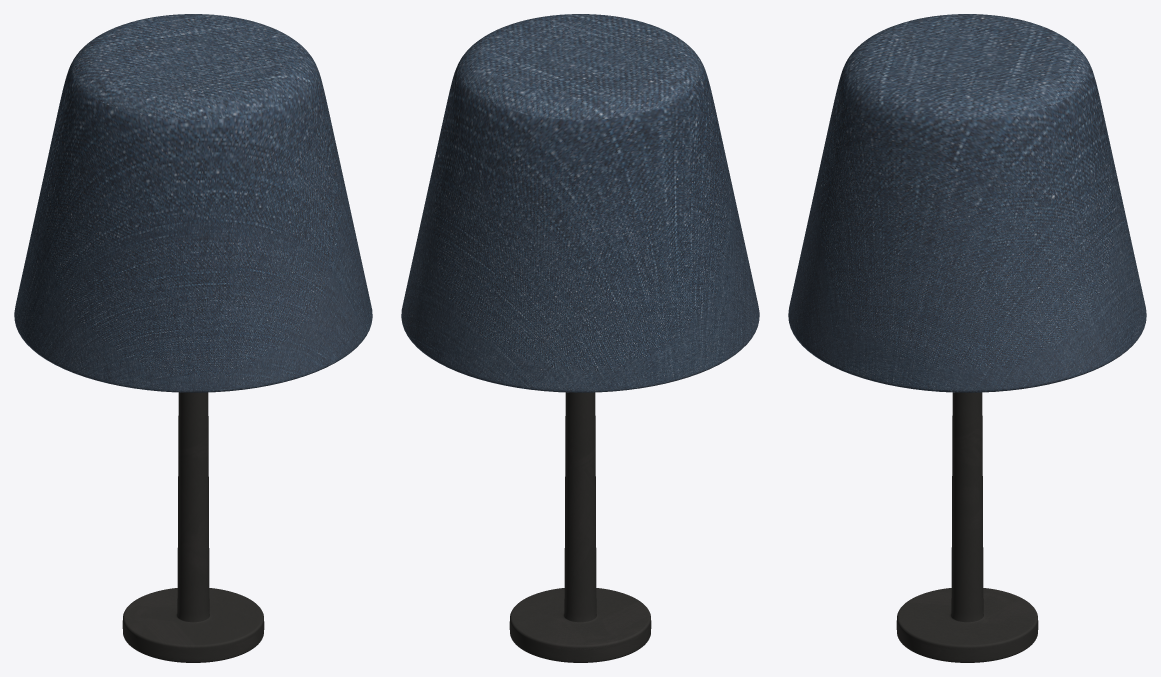
File: X_LAMP_.fbx
3 renders of one model, left to right at view 1: azimuth 30°, elevation 25°; view 2: azimuth 150°, elevation 25°; view 3: azimuth 270°, elevation 25°, orthographic.
Visible parts, largest first — view 1: X_LAMP; view 2: X_LAMP; view 3: X_LAMP.
Boxes of the visible parts, box(x1,y1,x2,y2) form: X_LAMP: box(14, 14, 372, 662); X_LAMP: box(401, 14, 759, 662); X_LAMP: box(788, 14, 1146, 662).
Bounding box in the file's own units: 55.91 × 99.42 × 55.91.
